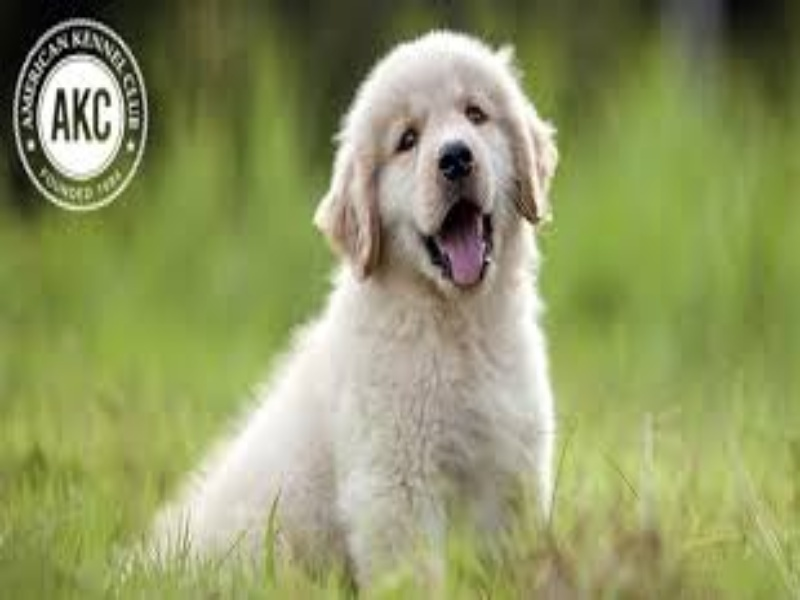dog: (175, 28, 583, 600)
